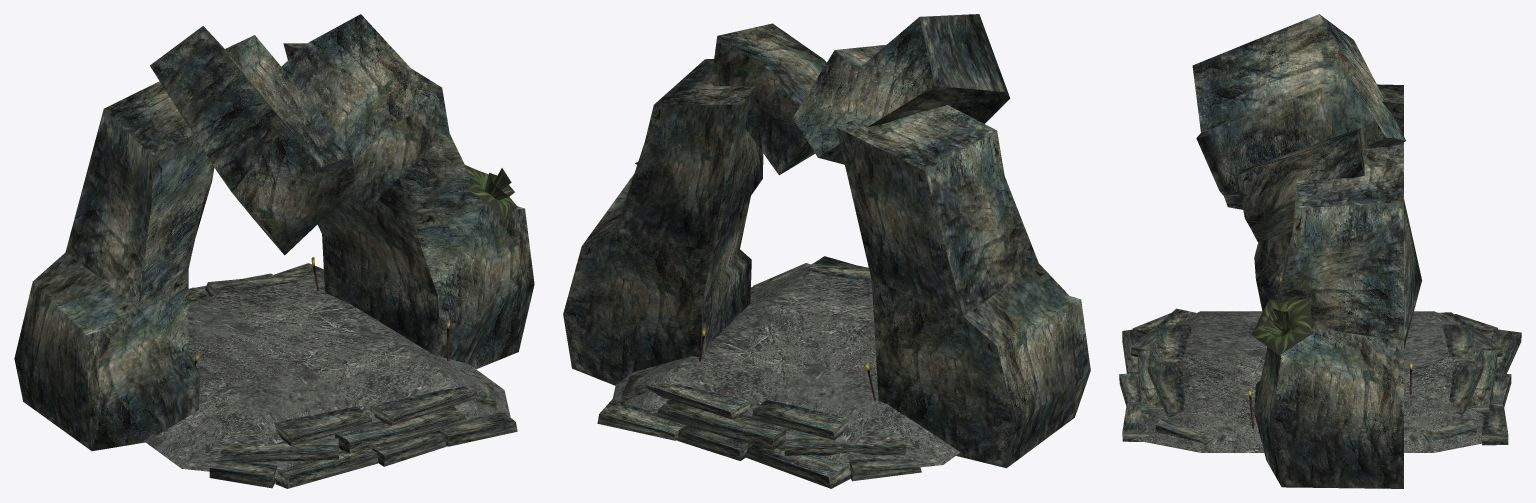
The model's file is tunnelcap_jungle_cave.fbx.
3 renders of one model, left to right at view 1: azimuth 30°, elevation 25°; view 2: azimuth 150°, elevation 25°; view 3: azimuth 270°, elevation 25°, orthographic. The views are drawn at different scales.
Visible parts, largest first — view 1: columnL, columnR, top_big1, floor2, topSmall, floor.001, pCube4.001, pCube7.001, pCube9.001, pCube8.001, pCube3.001, pCube1.001 (+4 smaller); view 2: columnL, columnR, floor.001, top_big1, topSmall, floor2, pCube4, pCube3, pCube9, pCube7, pCube1, pCube8 (+3 smaller); view 3: columnR, top_big1, floor2, topSmall, floor.001, columnL, jungle_plant, pCube8.001, pCube9.001, pCube4, pCube8, pCube9 (+11 smaller).
Part boxes in pixels (x1,y1,x2,y2): columnL: (14,81,214,451); columnR: (283,43,534,369); top_big1: (150,26,355,255); floor2: (143,344,510,478); topSmall: (281,14,439,207); floor.001: (188,276,424,402); pCube4.001: (335,406,466,453); pCube7.001: (220,438,338,462); pCube9.001: (274,406,373,445); pCube8.001: (370,386,476,425); pCube3.001: (275,448,378,488); pCube1.001: (437,410,517,446); columnL: (836,105,1090,468); columnR: (563,59,763,385); floor.001: (613,301,960,474); top_big1: (792,14,1010,164); topSmall: (711,23,826,175); floor2: (747,271,874,326); pCube4: (656,400,790,450); pCube3: (746,444,850,488); pCube9: (752,400,849,440); pCube7: (784,430,907,455); pCube1: (597,399,684,440); pCube8: (646,382,751,419); columnR: (1254,144,1422,488); top_big1: (1192,14,1405,209); floor2: (1132,311,1267,452); topSmall: (1237,128,1369,241); floor.001: (1404,311,1491,452); columnL: (1254,84,1403,311); jungle_plant: (1251,299,1312,355); pCube8.001: (1148,364,1185,417); pCube9.001: (1155,324,1192,364); pCube4: (1467,349,1497,414); pCube8: (1449,364,1482,415); pCube9: (1442,324,1474,365).
Size of the model in its own units: 6078 by 5104 by 5279.
4 materials, 4 textured.
